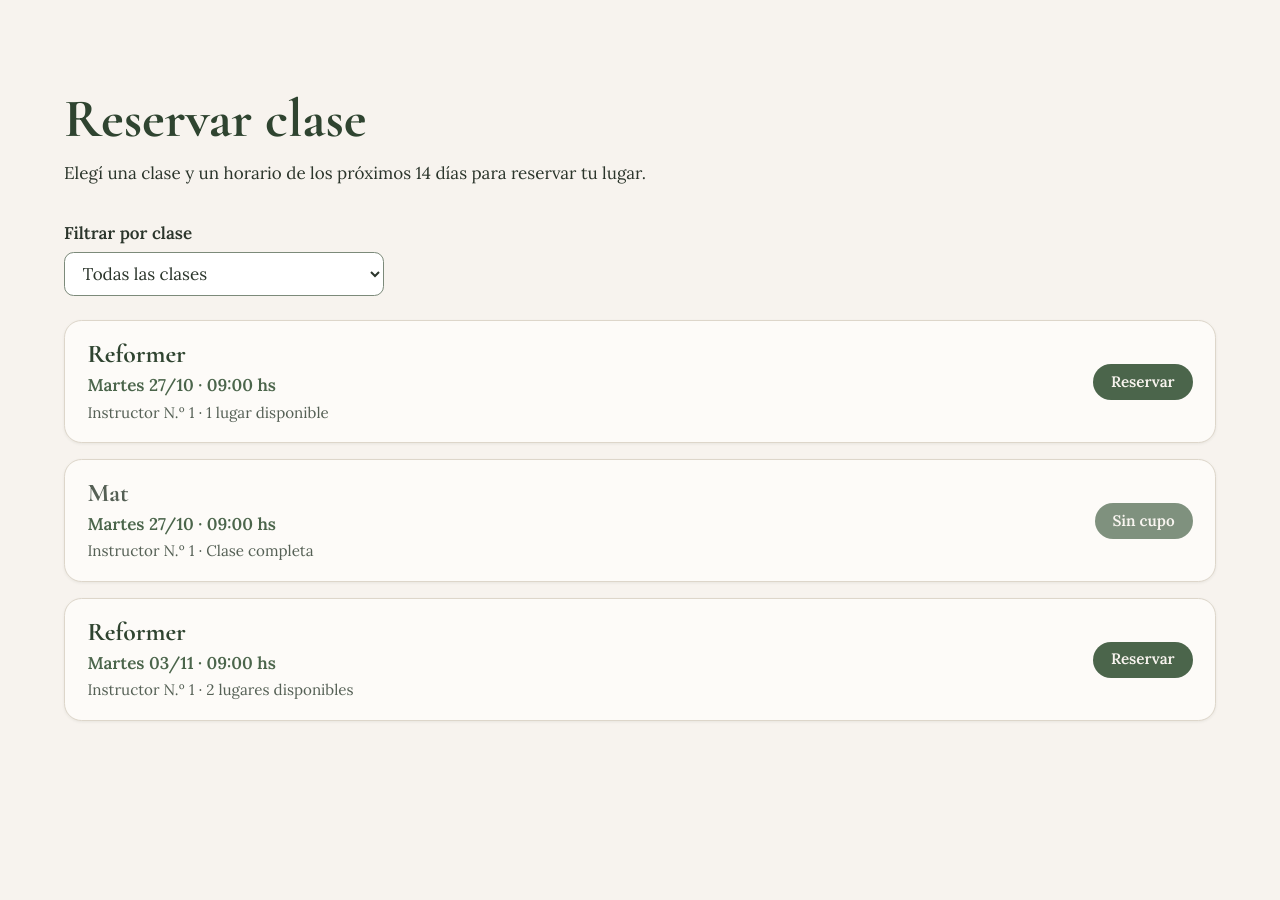
Test: ReservarPage › muestra el error del backend cuando la reserva es rechazada
This screenshot has width=1280, height=900.
Click the button with aria-label "Reservar Reformer, Martes 27/10" at (1143, 382), box 1093,364 -> 1193,400
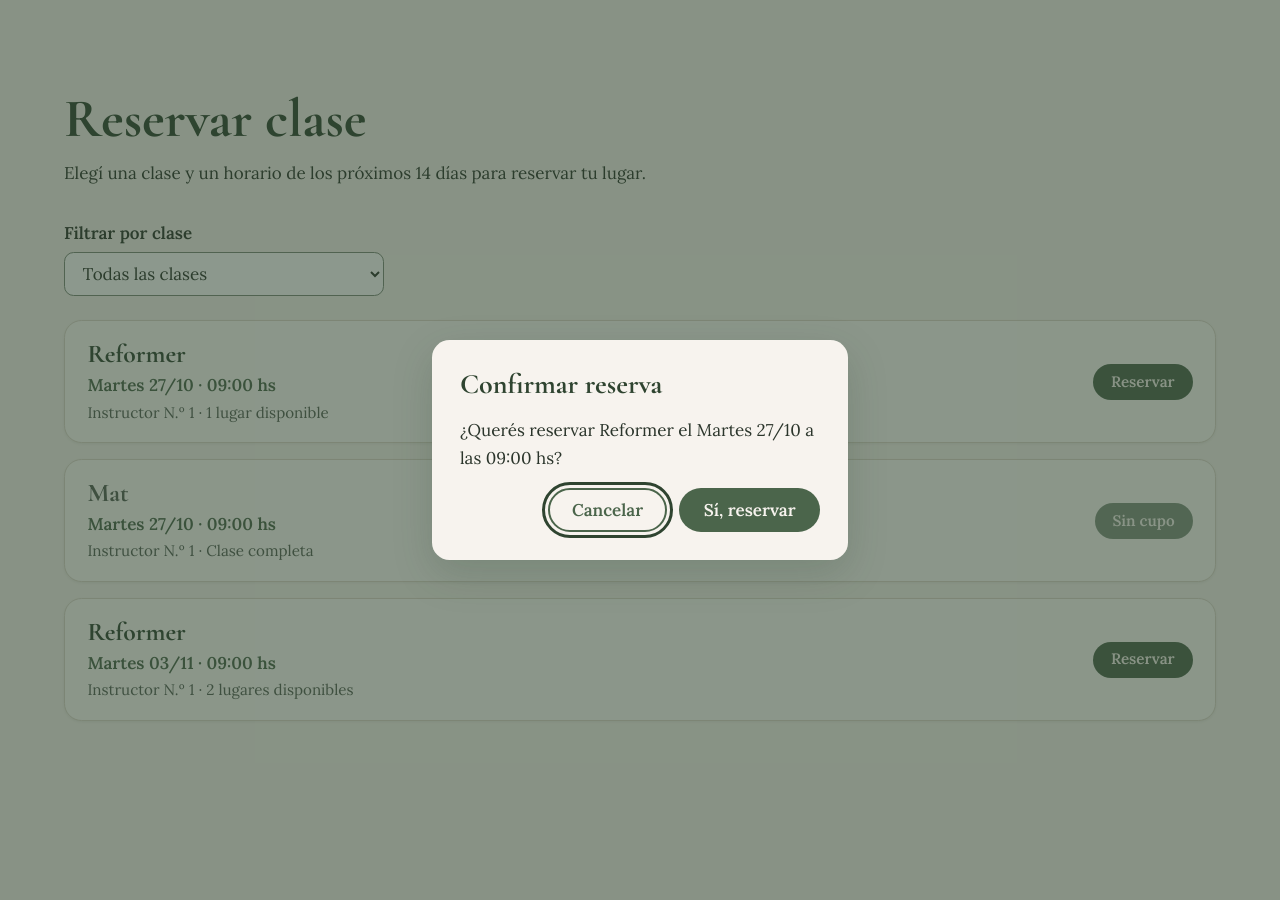
Click the button "Sí, reservar" at (750, 510), box 679,488 -> 820,532
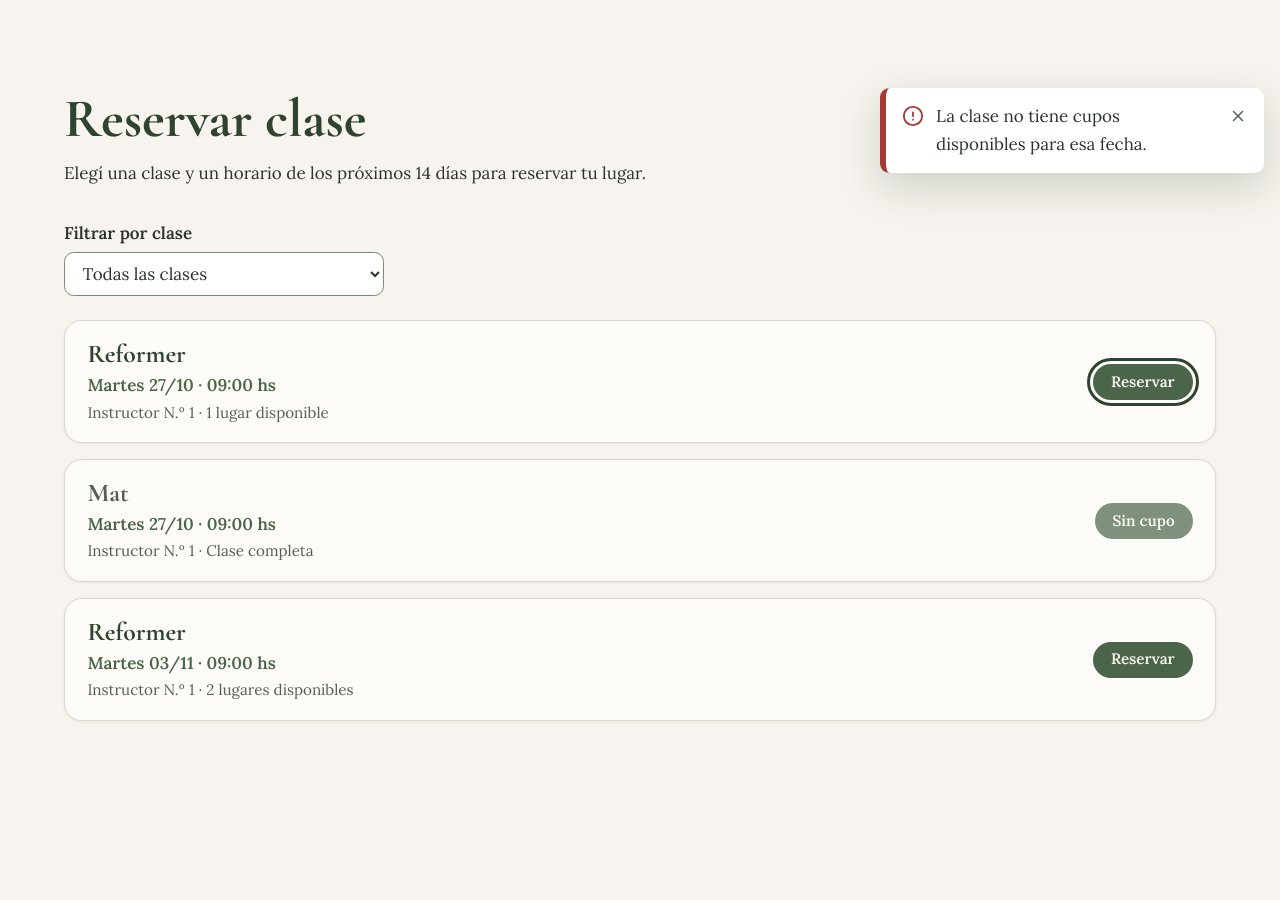
expect the text "La clase no tiene cupos disponibles para esa fecha." is shown: met, box 936,105 -> 1147,155
